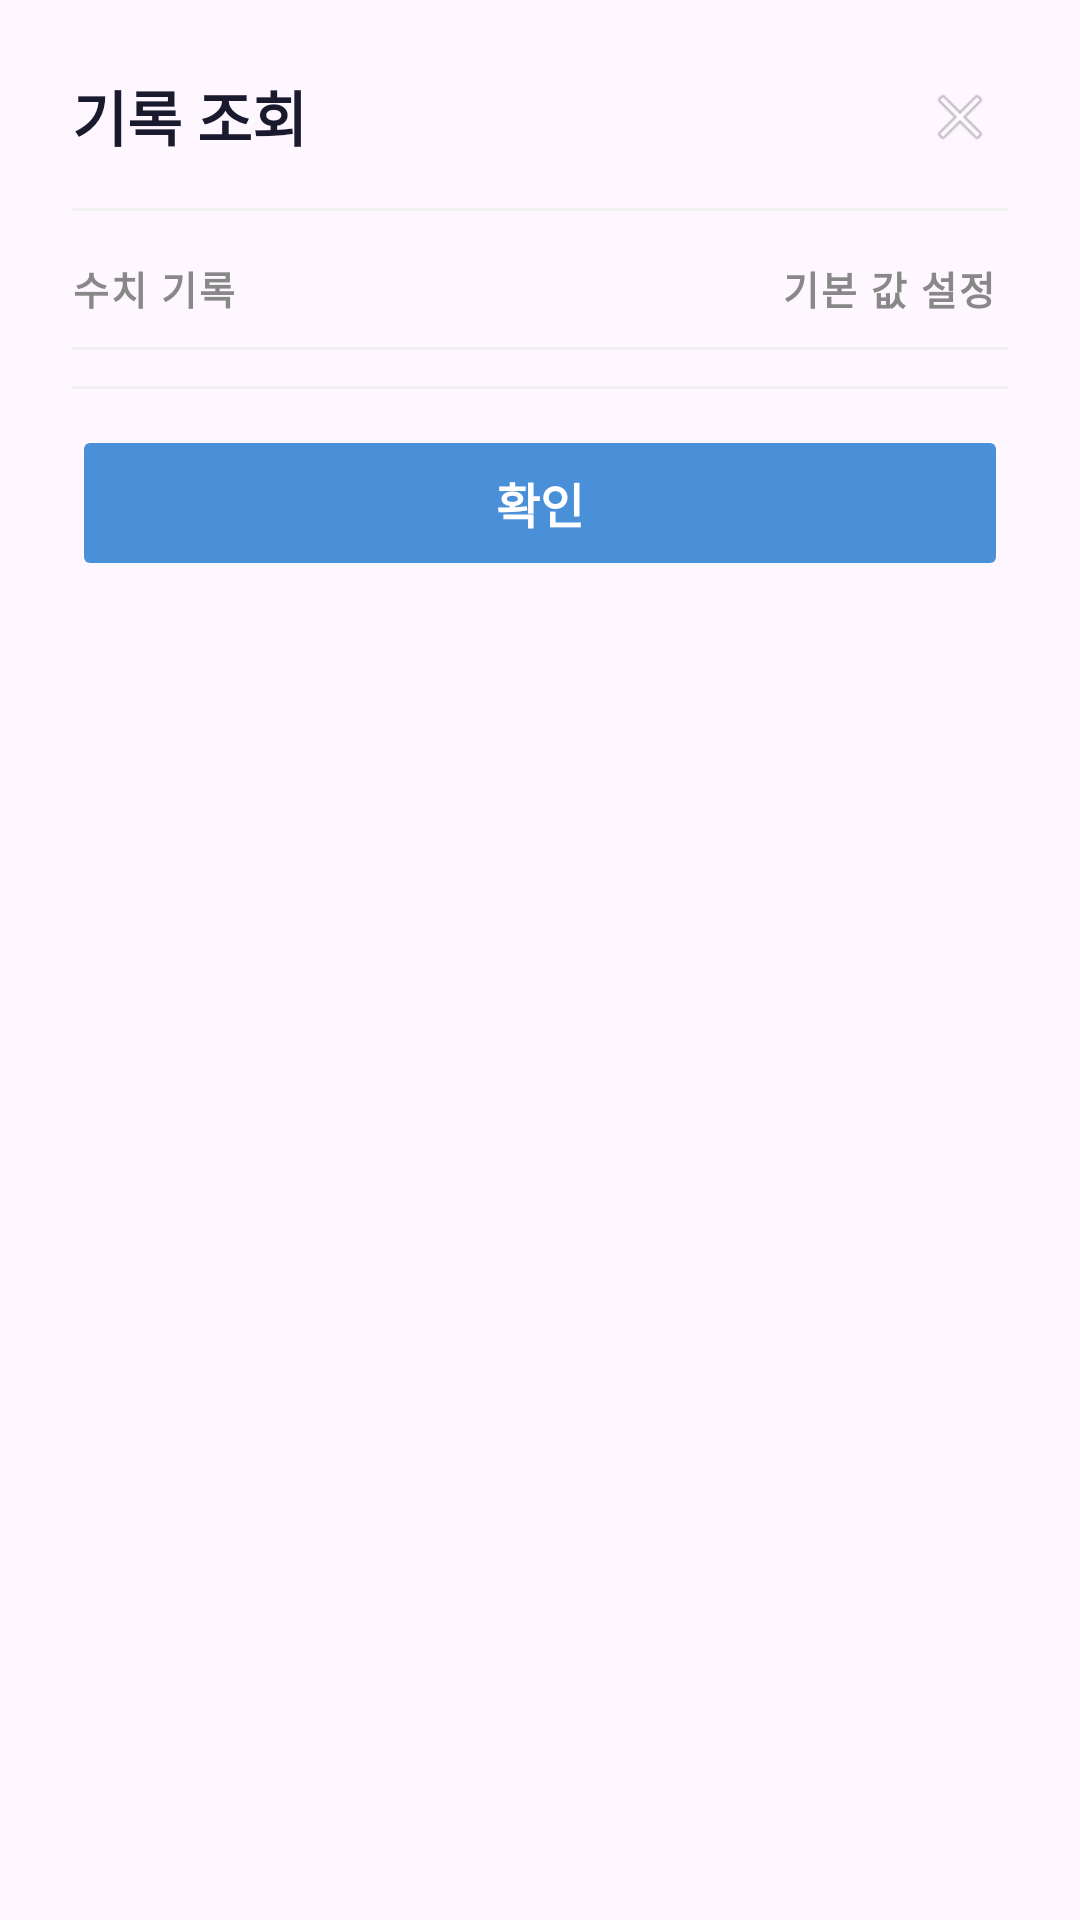

Icon click points for this 1080px x 1920px phone screenshot, format point (x, y):
close clear cancel: point (960, 117)
